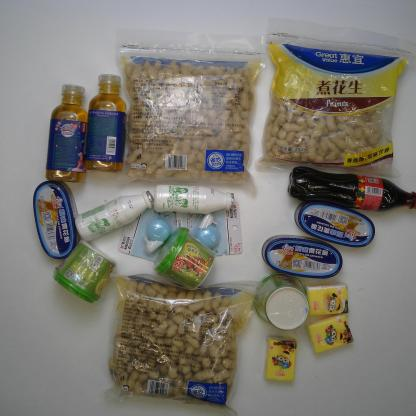Canned Food: (33, 180, 79, 260), (294, 202, 375, 247), (262, 236, 343, 278)
Dried Food: (112, 28, 266, 201), (254, 16, 416, 178), (103, 272, 261, 416)
Drink: (288, 166, 416, 212), (45, 84, 89, 183), (85, 74, 127, 173)
Instant Drink: (53, 241, 117, 304), (153, 228, 216, 291), (254, 272, 310, 330)
Milk: (74, 191, 154, 242), (154, 183, 236, 214)
Stationery: (118, 196, 191, 269), (175, 201, 243, 259)
Tissue: (308, 313, 353, 353), (264, 336, 297, 382), (306, 282, 349, 317)
